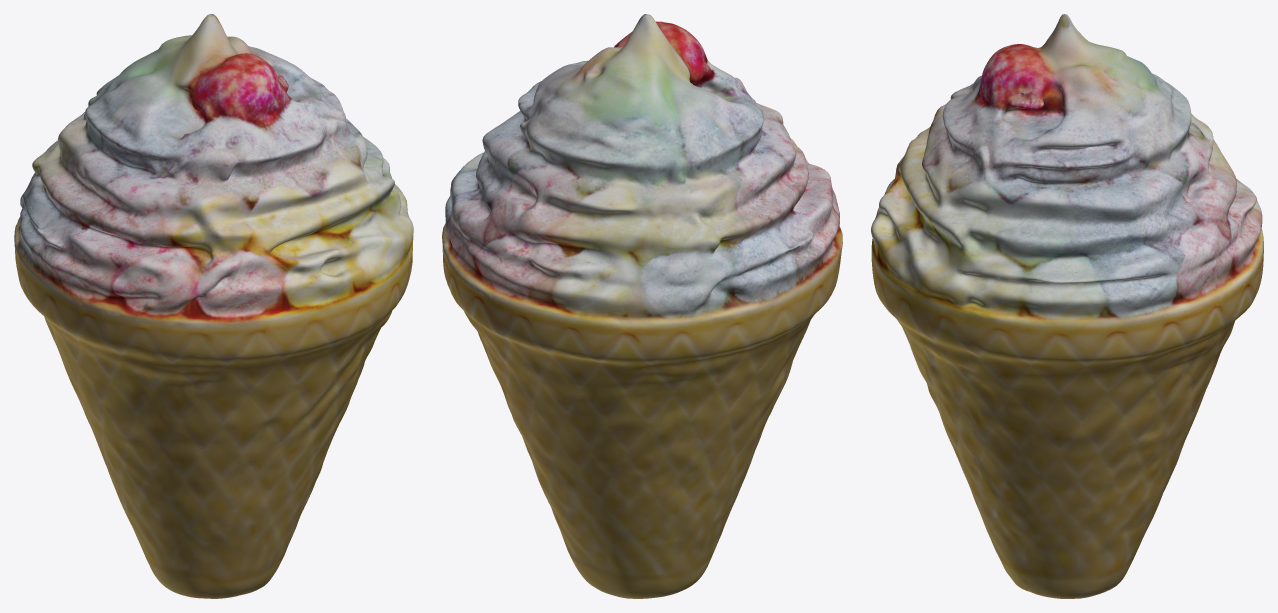
Rendered from MediumCone.fbx.
3 views of the same model, side by side, from view 1: azimuth 30°, elevation 25°; view 2: azimuth 150°, elevation 25°; view 3: azimuth 270°, elevation 25° (orthographic).
Parts seen in each view (by area): view 1: high_poly; view 2: high_poly; view 3: high_poly.
Boxes of the visible parts, box(x1,y1,x2,y2) form: high_poly: box(14, 14, 413, 598); high_poly: box(442, 14, 842, 598); high_poly: box(871, 14, 1263, 598).
Bounding box in the file's own units: 62.75 × 100 × 62.48.
